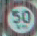Speed limit: (3, 0, 35, 35)
